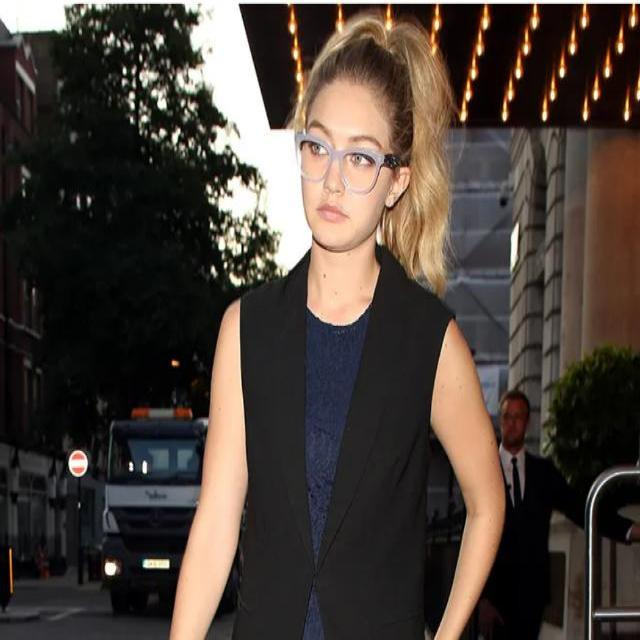glasses: (296, 132, 404, 194)
